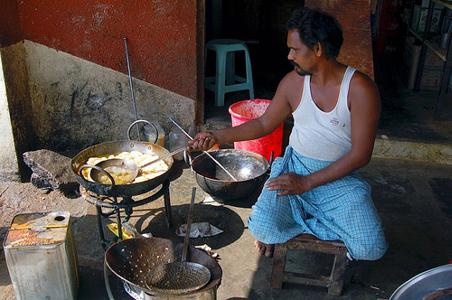person: (188, 14, 389, 265)
